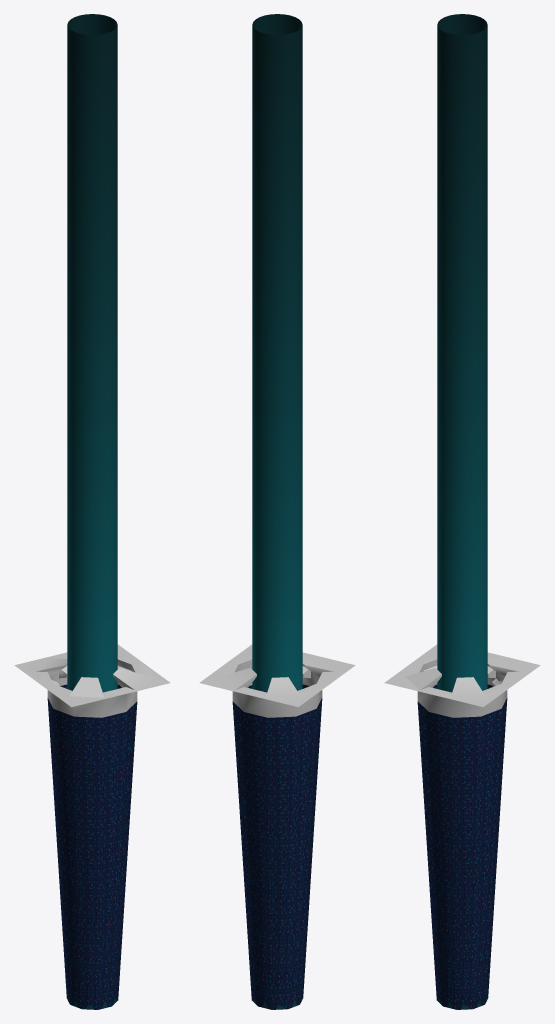
File: desmlh01.FBX
3 views of the same model, side by side, from view 1: azimuth 30°, elevation 25°; view 2: azimuth 150°, elevation 25°; view 3: azimuth 330°, elevation 25° (orthographic).
Parts seen in each view (by area): view 1: shaft__g, desmlh01; view 2: shaft__g, desmlh01; view 3: shaft__g, desmlh01.
Boxes of the visible parts, x1,y1,x2,y2 form: shaft__g: (67, 14, 117, 1009); desmlh01: (14, 644, 170, 1009); shaft__g: (252, 14, 302, 1009); desmlh01: (199, 644, 355, 1009); shaft__g: (437, 14, 487, 1009); desmlh01: (384, 644, 540, 1009).
Size of what is drawn, in the model's own units: 64 by 600 by 64.
